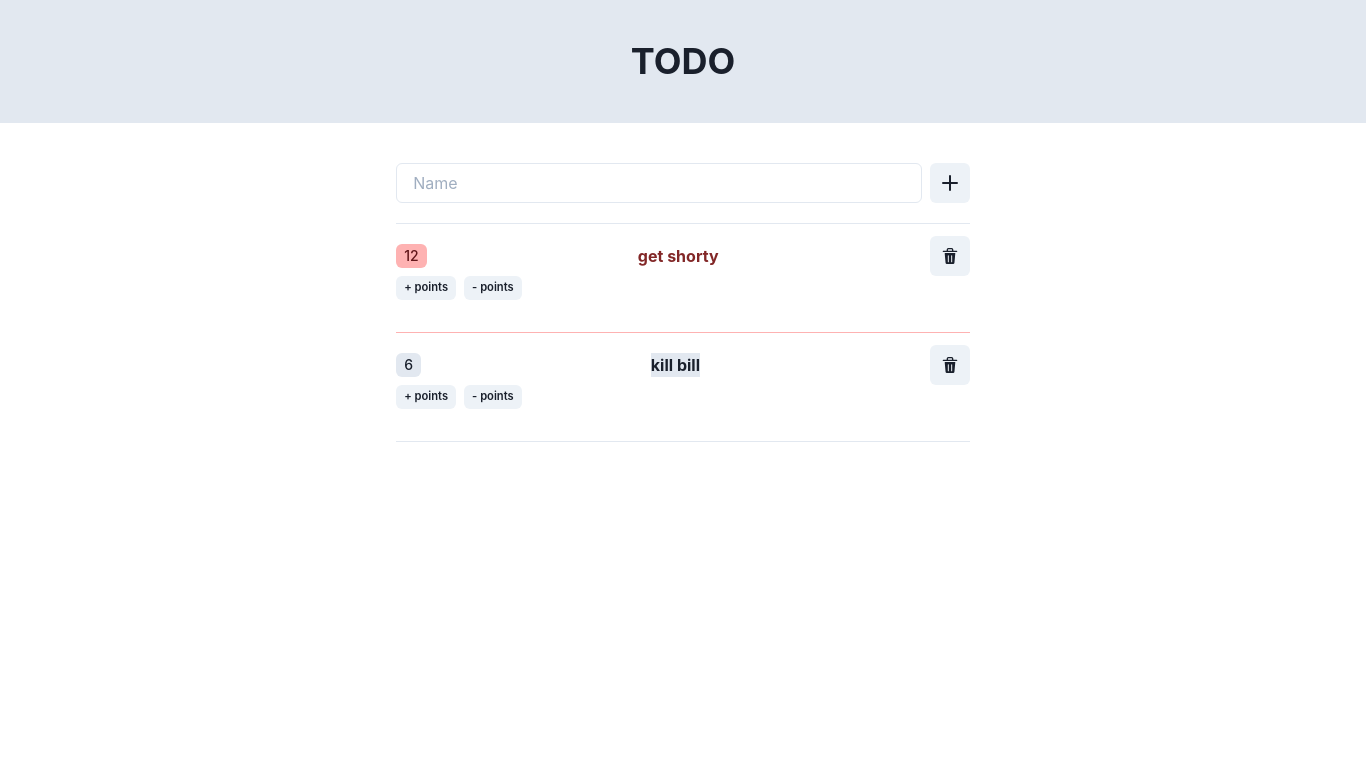
Test: App › parses point input in the task name
Check: the number of list items named "task" is 2, box [396, 224, 970, 333]; [396, 333, 970, 442]
Click the button named "Add". click: (950,183)
box: [930, 163, 970, 203]
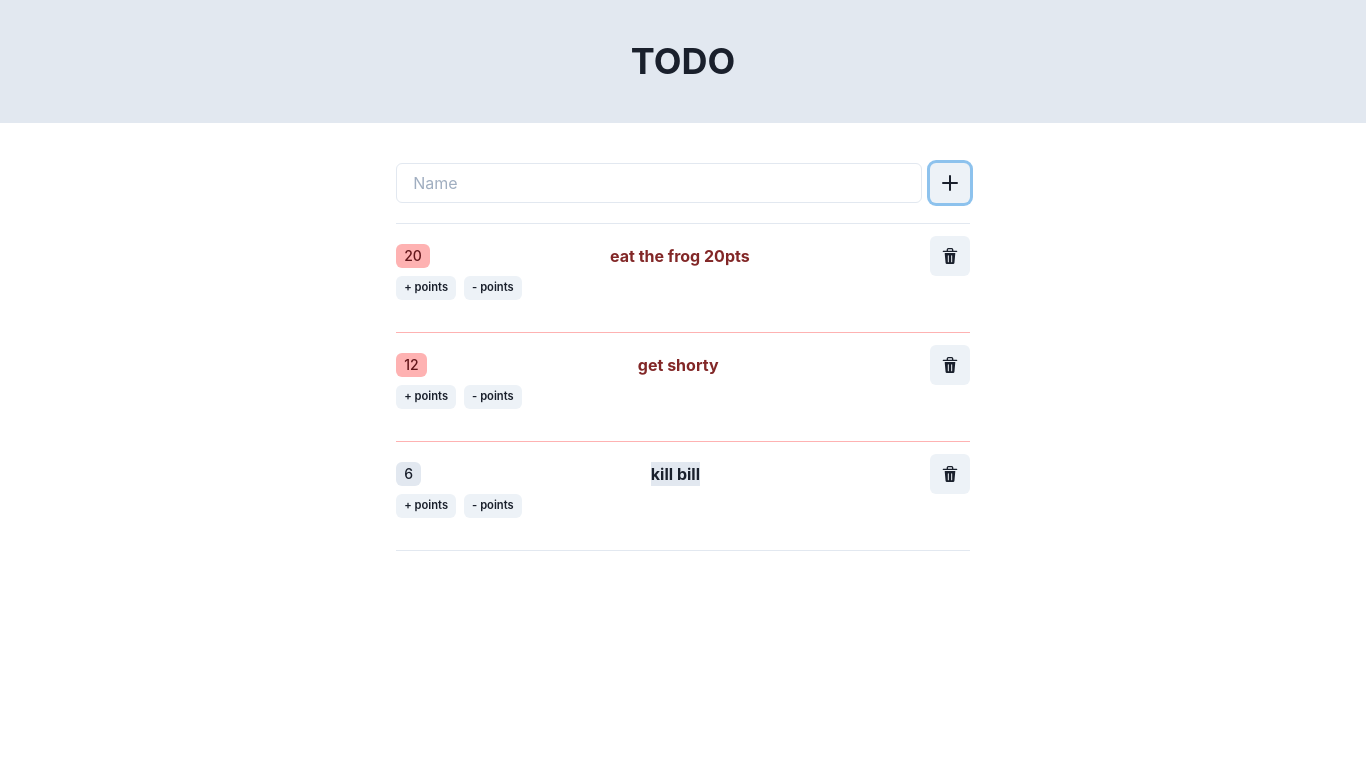
Check: the number of list items named "task" is 3, box [396, 224, 970, 333]; [396, 333, 970, 442]; [396, 442, 970, 551]
Check: the list item with aria-label "task" shows "eat the frog", box [610, 246, 750, 266]
